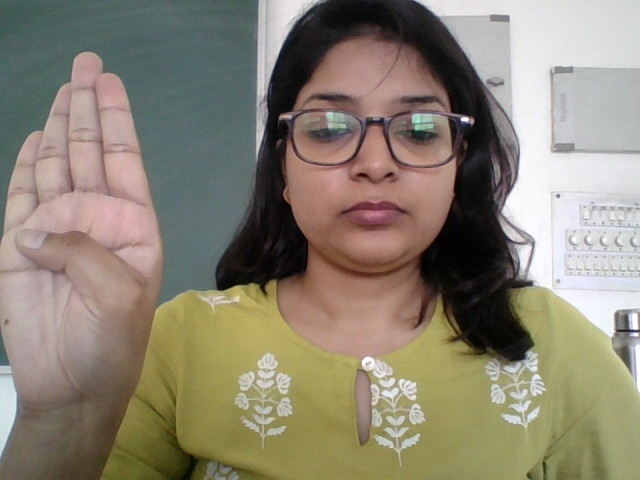B: (5, 48, 175, 405)
